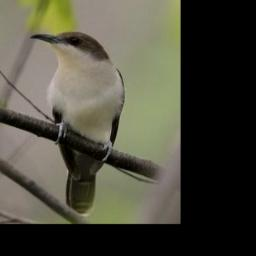Cuckoo: (29, 30, 126, 217)
